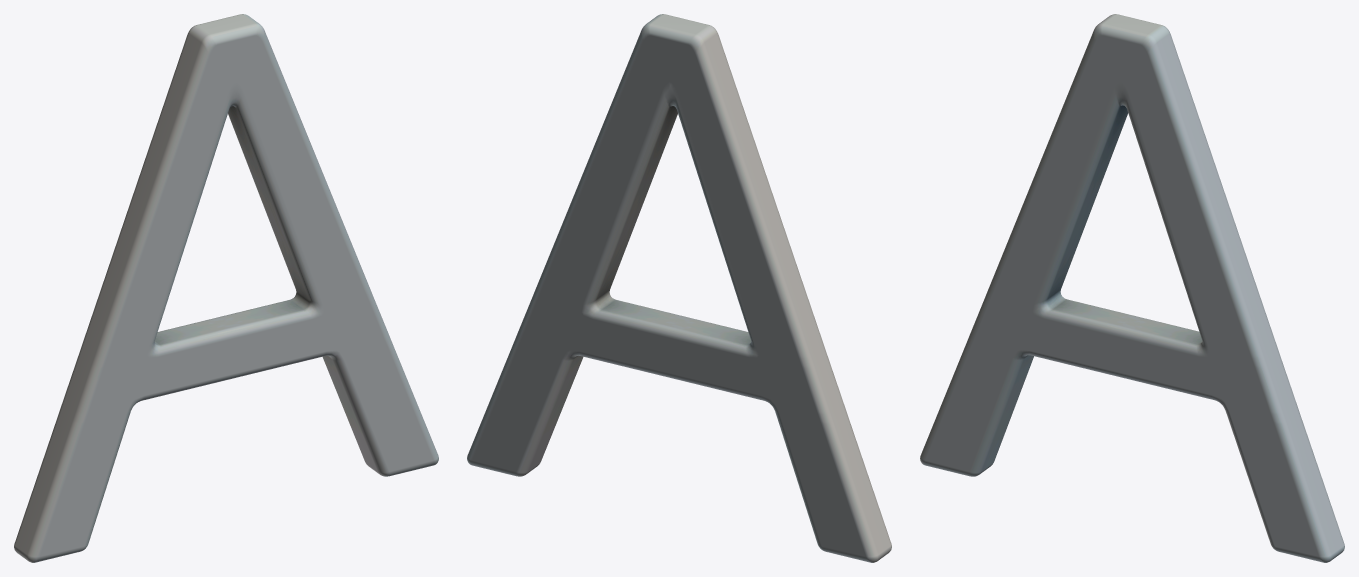
3 renders of one model, left to right at view 1: azimuth 30°, elevation 25°; view 2: azimuth 150°, elevation 25°; view 3: azimuth 330°, elevation 25°, orthographic.
Parts seen in each view (by area): view 1: node_id30; view 2: node_id30; view 3: node_id30.
Boxes of the visible parts, x1,y1,x2,y2 form: node_id30: (14, 14, 438, 562); node_id30: (467, 14, 891, 562); node_id30: (920, 14, 1344, 562).
Bounding box in the file's own units: 0.4542 × 0.512 × 0.0394.
Materials: 1 (1 with a texture image).
